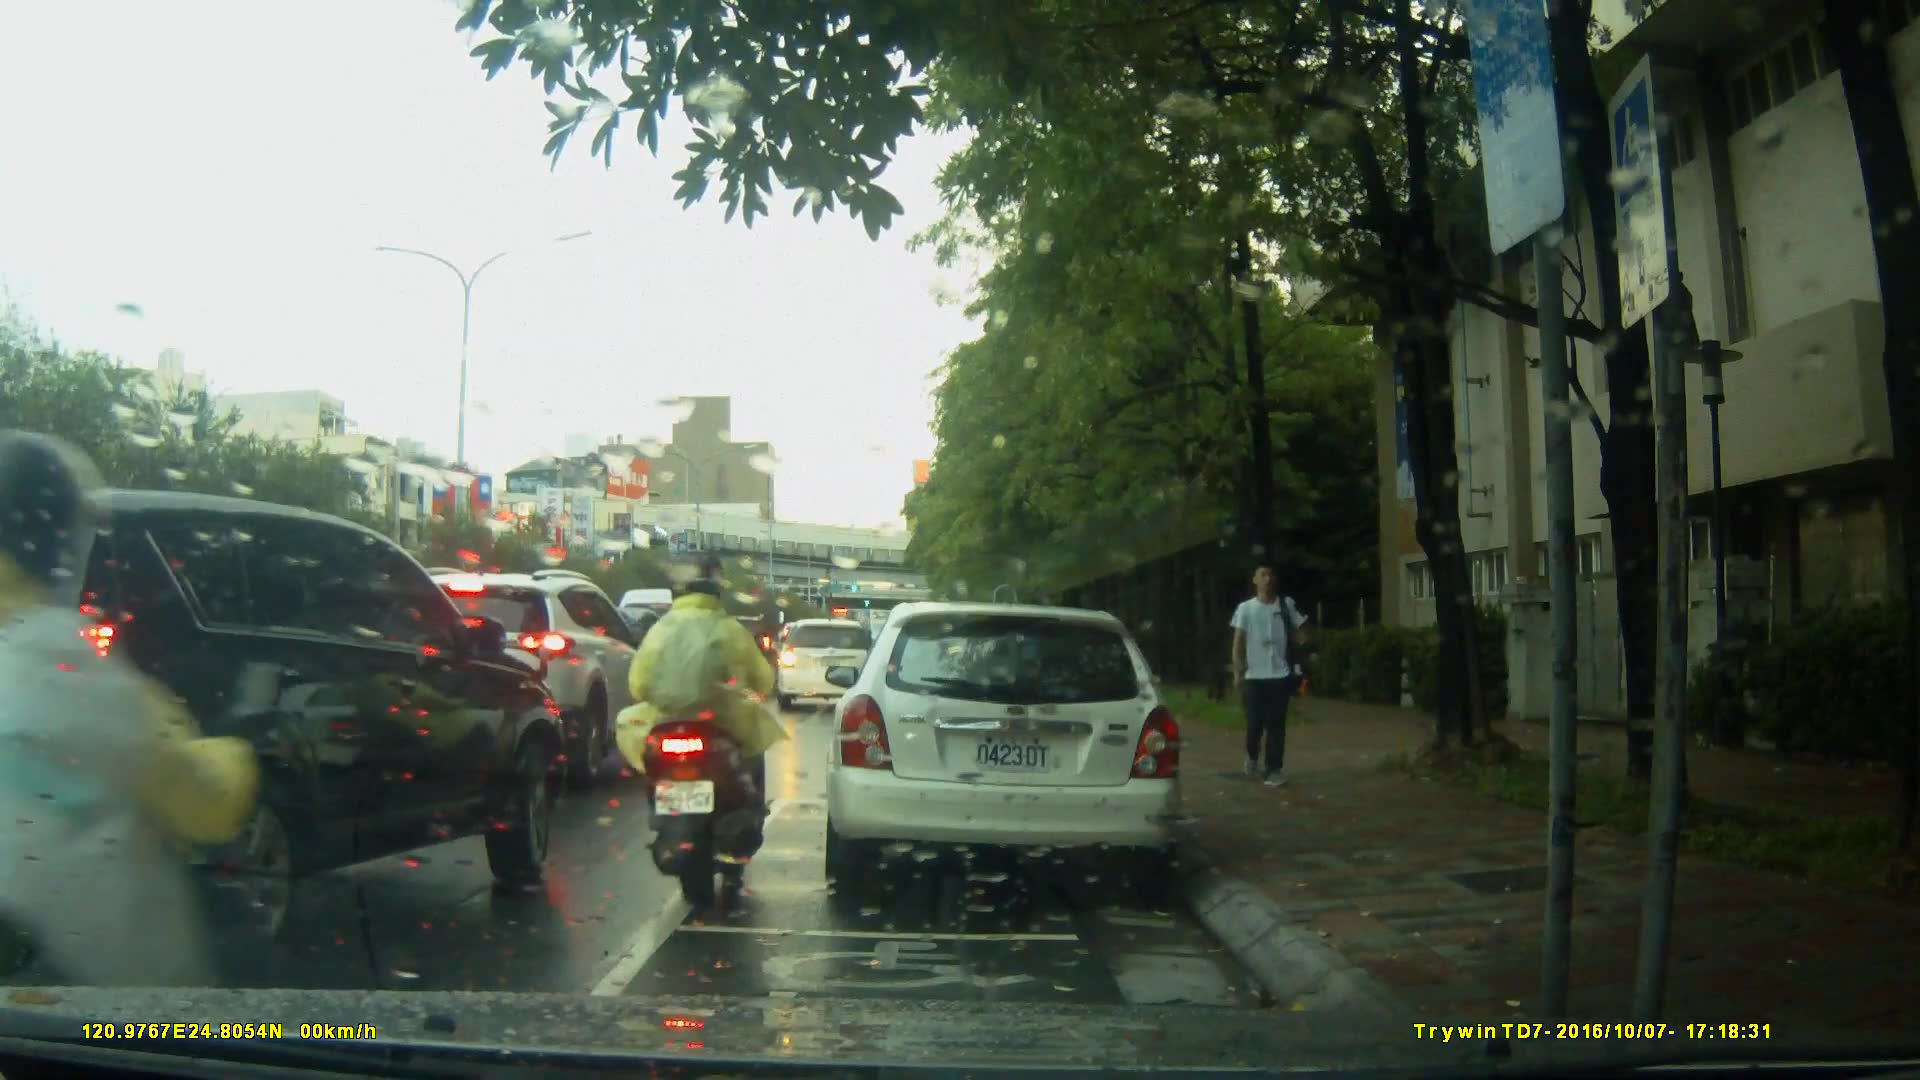pedestrian: (1221, 560, 1316, 801)
rider: (1, 438, 271, 1072), (626, 551, 788, 900)
vehicle: (1, 478, 567, 976), (820, 602, 1188, 898), (358, 566, 667, 785), (610, 587, 730, 718), (771, 617, 881, 711)
